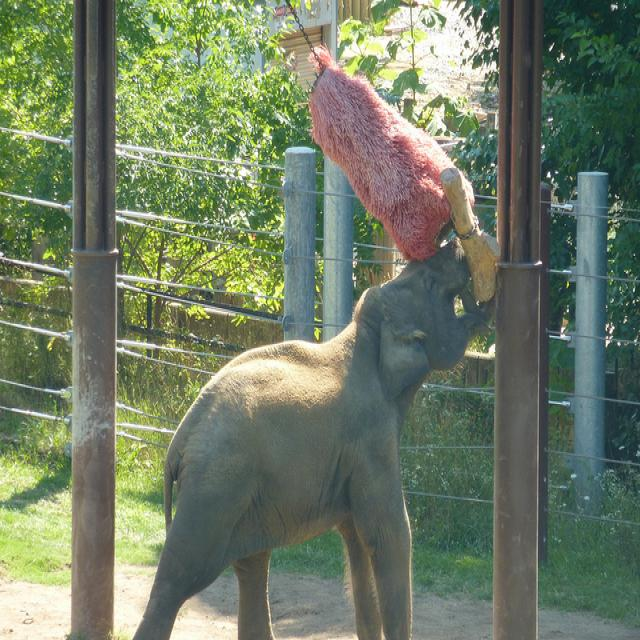Elephant: (131, 234, 496, 638)
